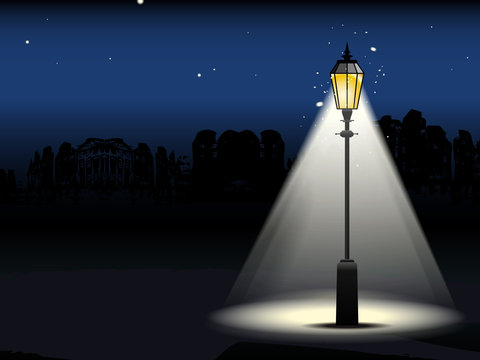Lamp: (297, 40, 403, 334)
